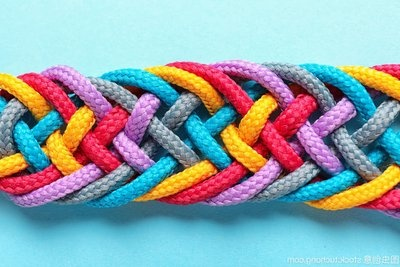9/可回收垃圾/绳子: (1, 60, 399, 219)
